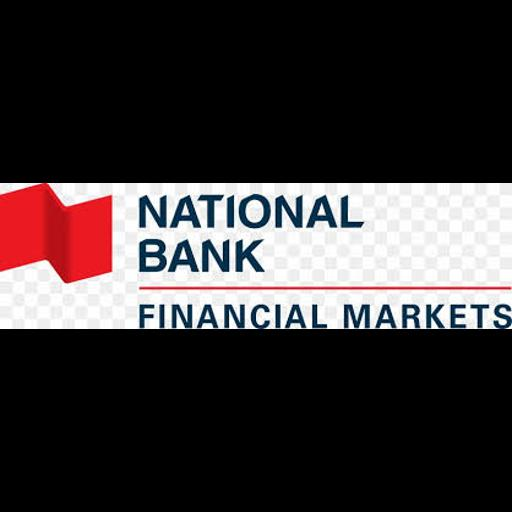National Bank of Canada: (0, 183, 512, 329)
